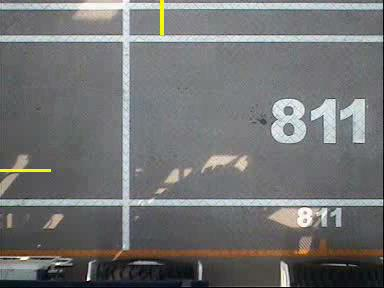groundmarker_2: (196, 153, 222, 198)
